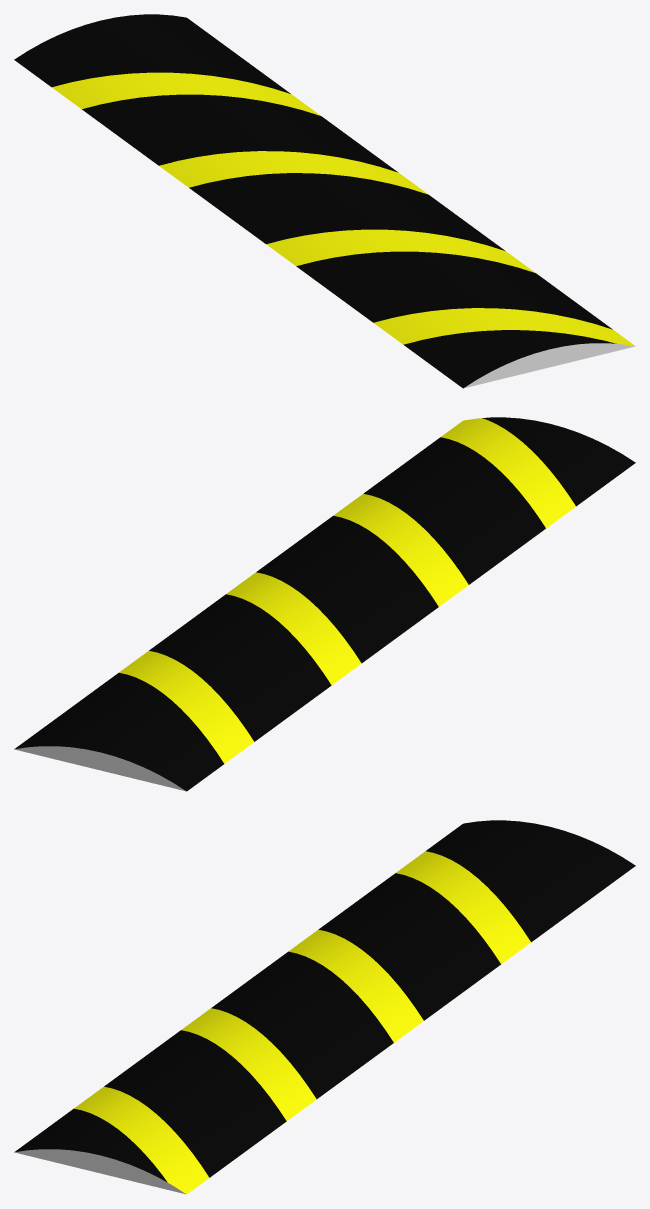
File: hump.dae
3 views of the same model, one above another, from view 1: azimuth 30°, elevation 25°; view 2: azimuth 150°, elevation 25°; view 3: azimuth 330°, elevation 25° (orthographic).
Visible parts, largest first — view 1: SketchUp (×10); view 2: SketchUp (×10); view 3: SketchUp (×10).
Boxes of the visible parts, <box> form: SketchUp (×10): <box>14,14,635,388</box>; SketchUp (×10): <box>14,417,635,791</box>; SketchUp (×10): <box>14,820,635,1194</box>.
Size of the model in its own units: 39.37 by 177 by 3.94.
